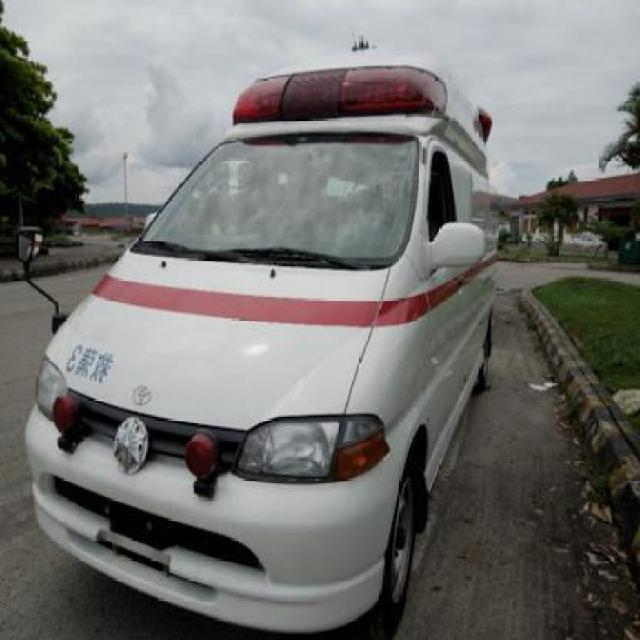emergency: (17, 33, 499, 634)
